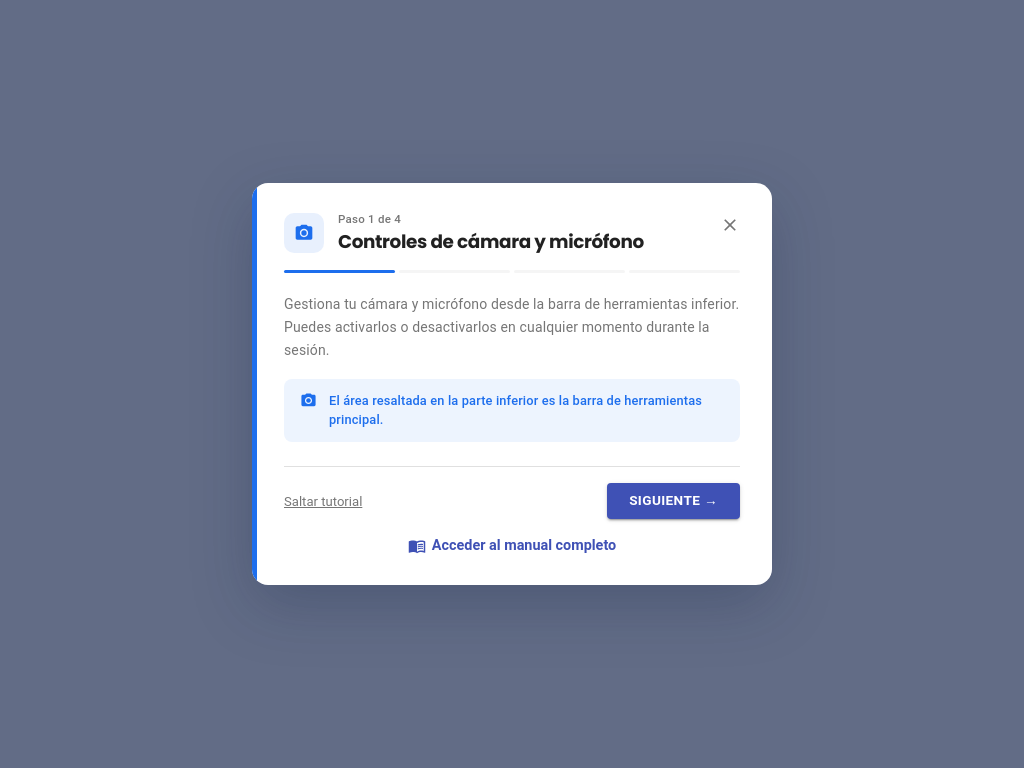
Scenario: OnboardingTutorial component › navigates through all 4 steps in order
This screenshot has width=1024, height=768.
Check: the text with test id "onboarding-step-label" reads "Paso 1 de 4", box 338,212 -> 401,226
Check: the text with test id "onboarding-title" reads "Controles de cámara y micrófono", box 338,229 -> 644,254
Click the button with test id "onboarding-next". click: (674, 501)
box: 607,483 -> 740,519
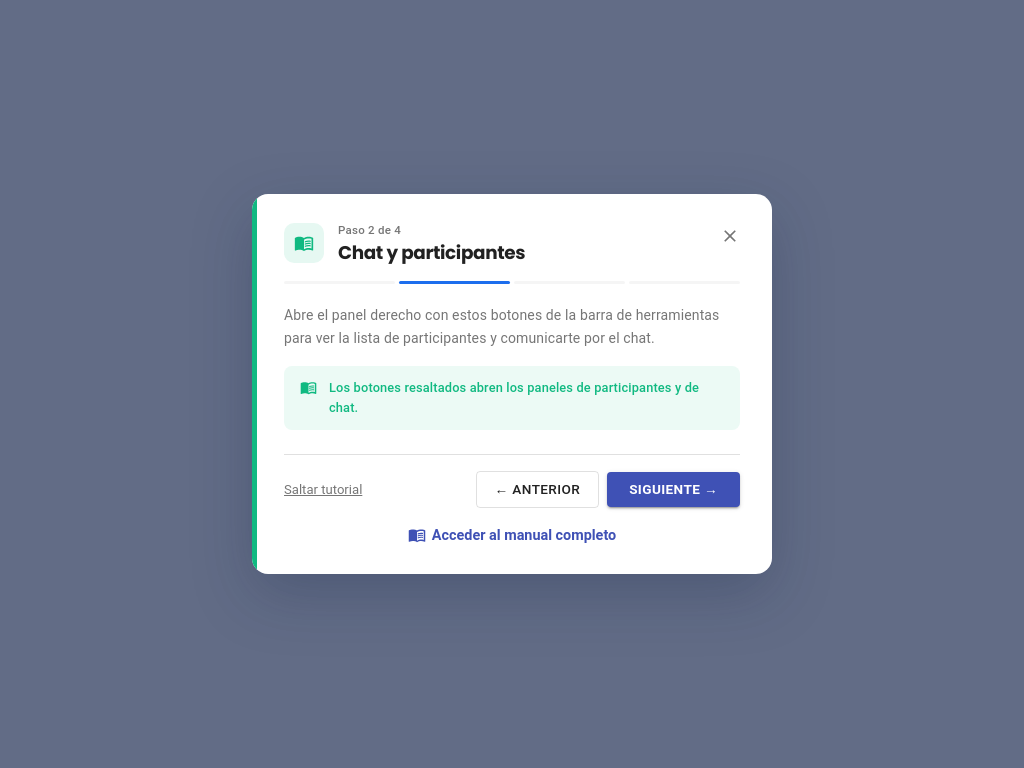
Check: the text with test id "onboarding-step-label" reads "Paso 2 de 4", box 338,223 -> 401,237
Check: the text with test id "onboarding-title" reads "Chat y participantes", box 338,240 -> 525,265
Click the button with test id "onboarding-next". click: (674, 490)
box: 607,472 -> 740,507
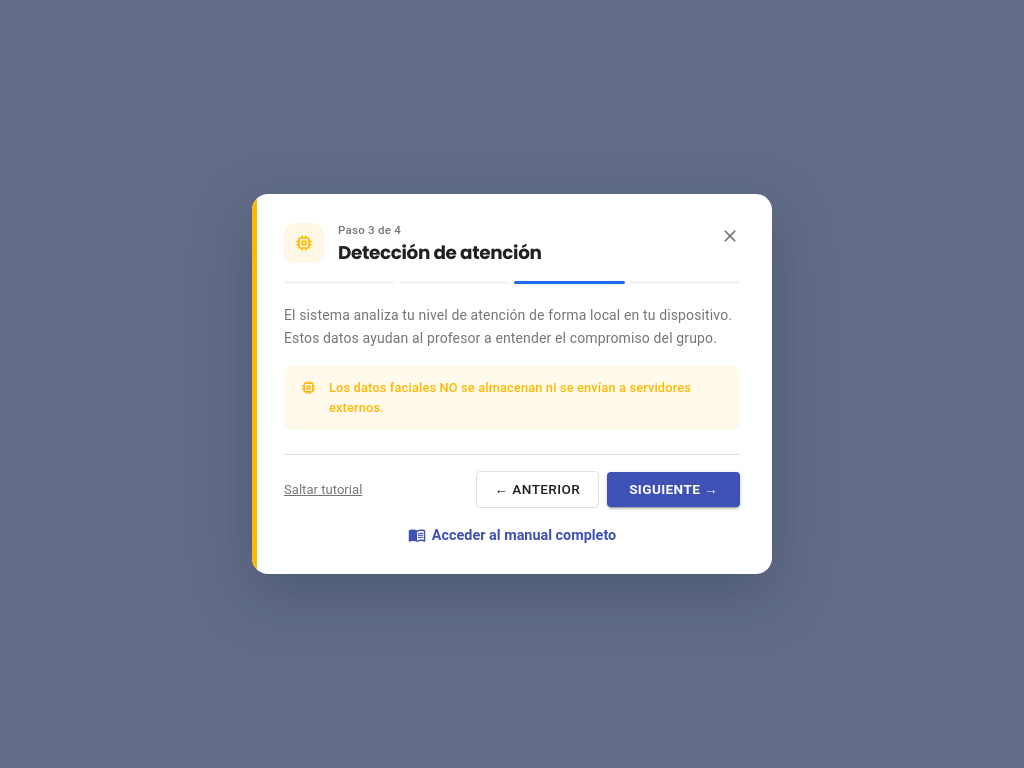
Check: the text with test id "onboarding-title" reads "Detección de atención", box 338,240 -> 542,265
Click the button with test id "onboarding-next". click: (674, 490)
box: 607,472 -> 740,507
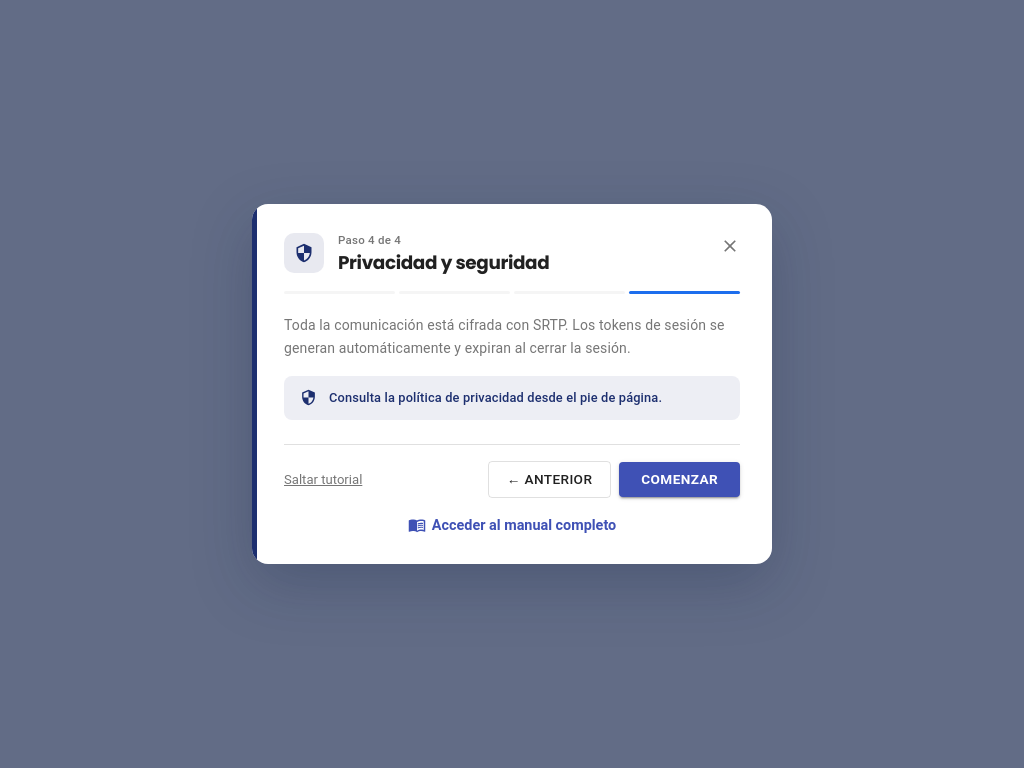
Check: the text with test id "onboarding-step-label" reads "Paso 4 de 4", box 338,232 -> 401,246
Check: the text with test id "onboarding-title" reads "Privacidad y seguridad", box 338,250 -> 549,275
